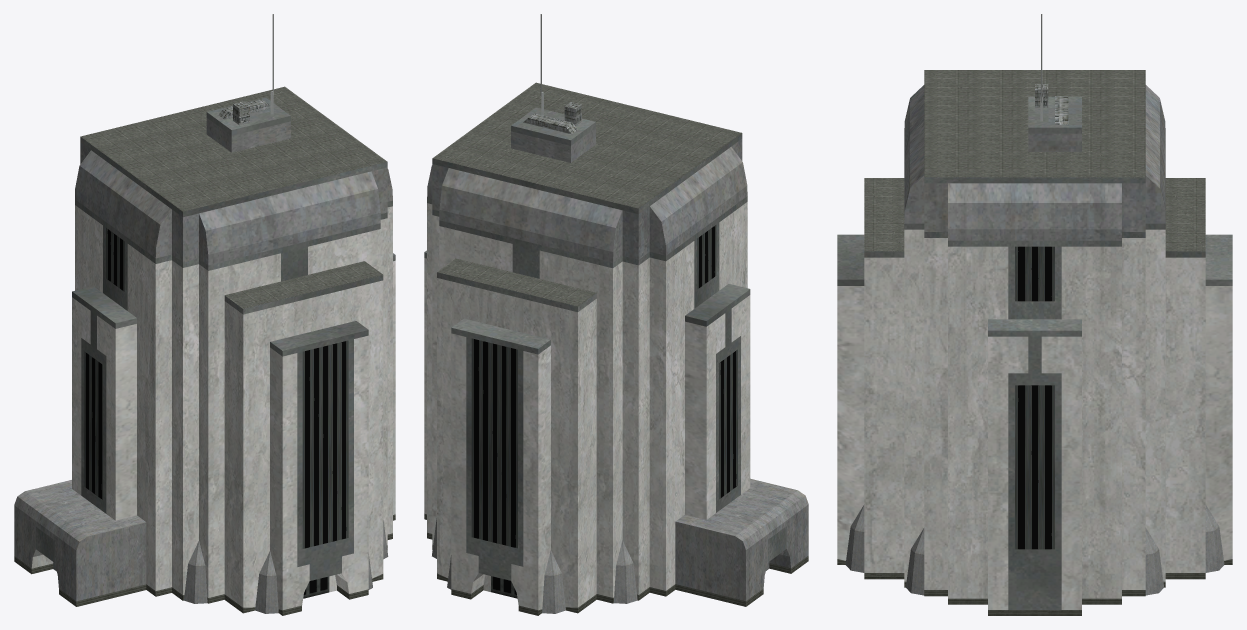
File: thm_corl_imprv_building_s07_r0_mesh_l2.fbx
3 renders of one model, left to right at view 1: azimuth 30°, elevation 25°; view 2: azimuth 150°, elevation 25°; view 3: azimuth 270°, elevation 25°, orthographic. The views are drawn at different scales.
Visible parts, largest first — view 1: mesh_node; view 2: mesh_node; view 3: mesh_node.
Part boxes in pixels (left/top/right/bottom): mesh_node: left=14, top=14, right=395, bottom=615; mesh_node: left=424, top=14, right=808, bottom=615; mesh_node: left=837, top=14, right=1232, bottom=615.
Size of the model in its own units: 61 by 90.7 by 59.
